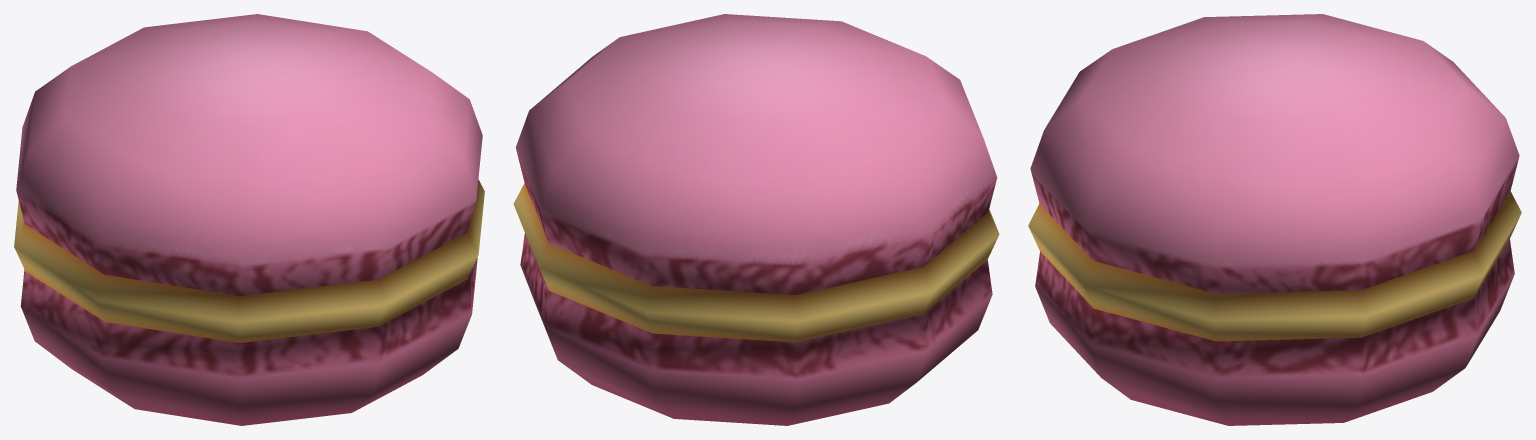
Rendered from 010-Macaron_03.FBX.
3 renders of one model, left to right at view 1: azimuth 30°, elevation 25°; view 2: azimuth 150°, elevation 25°; view 3: azimuth 270°, elevation 25°, orthographic.
Parts seen in each view (by area): view 1: 010-Macaron_03; view 2: 010-Macaron_03; view 3: 010-Macaron_03.
Part boxes in pixels (bbox=[...]): 010-Macaron_03: bbox=[14, 14, 484, 425]; 010-Macaron_03: bbox=[513, 14, 999, 425]; 010-Macaron_03: bbox=[1028, 14, 1521, 425].
Size of the model in its own units: 8.98 by 6.1 by 9.25.
